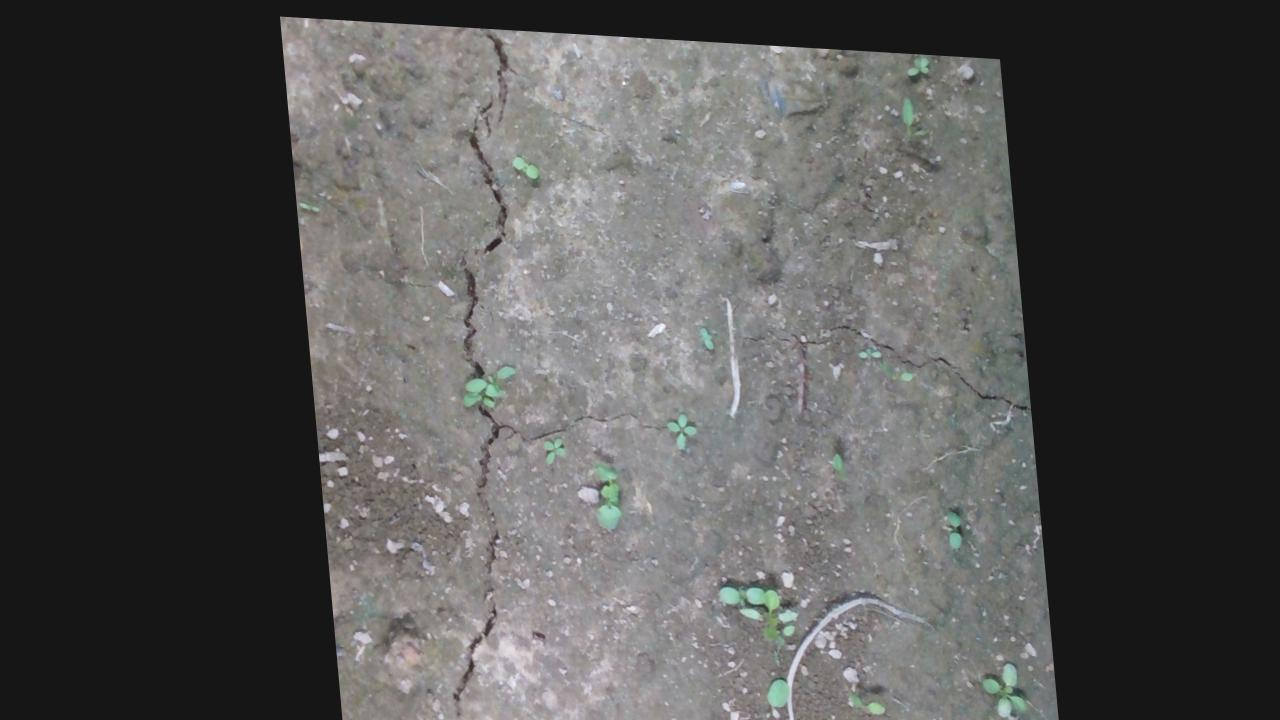weed: (965, 648, 1015, 708), (657, 403, 691, 447), (533, 430, 561, 462), (935, 498, 956, 540), (506, 148, 536, 172), (903, 44, 930, 67)
